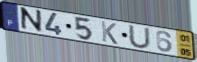4: (44, 12, 66, 38)
5: (73, 16, 95, 42)
6: (155, 30, 175, 54)
K: (100, 20, 119, 46)
N: (20, 6, 44, 34)
U: (128, 25, 153, 51)
